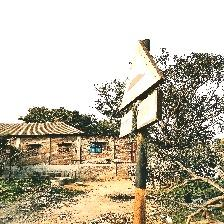Speed-breaker: (122, 38, 161, 134)
